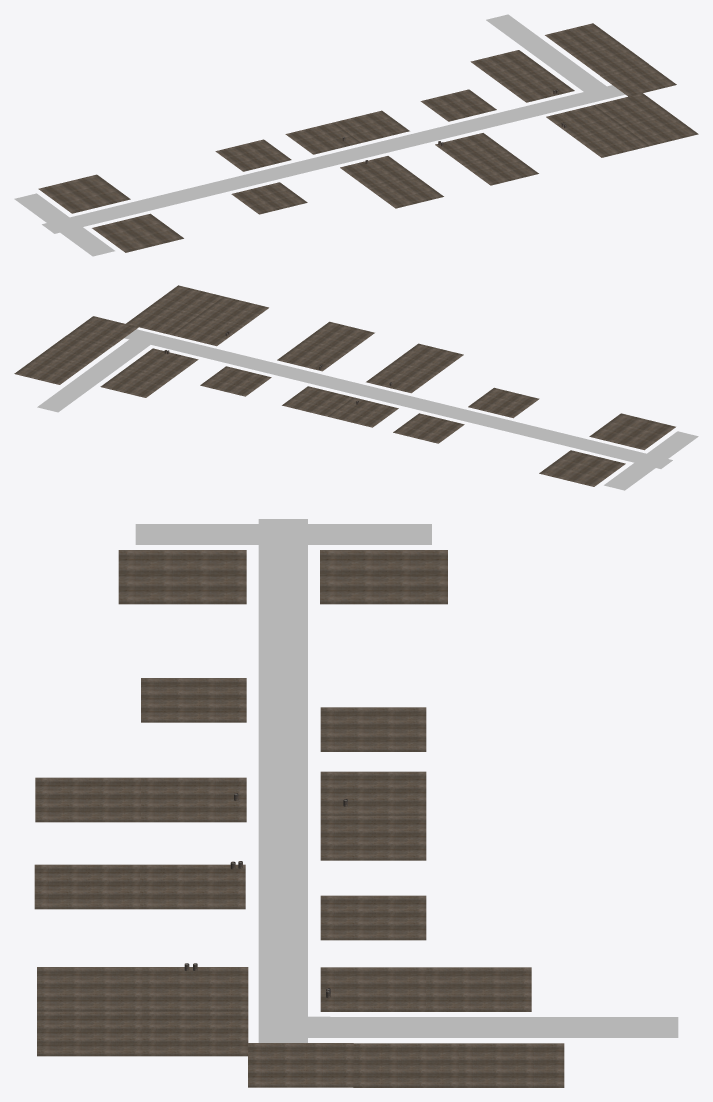
The model's file is road.fbx.
3 renders of one model, top to bottom at view 1: azimuth 30°, elevation 25°; view 2: azimuth 150°, elevation 25°; view 3: azimuth 270°, elevation 25°, orthographic. The views are drawn at different scales.
Parts seen in each view (by area): view 1: Plane.006, Plane.010, Plane.001, Plane.003, Plane.011, Plane.013, Plane.020, Plane.005, Plane.017, Plane.018, Plane.002, Plane.012 (+8 smaller); view 2: Plane.006, Plane.010, Plane.011, Plane.001, Plane.003, Plane.013, Plane.020, Plane.002, Plane.012, Plane.005, Plane.018, Plane.017 (+8 smaller); view 3: Plane.010, Plane.006, Plane.002, Plane.003, Plane.005, Plane.012, Plane.014, Plane.017, Plane.007, Plane.008, Plane.001, Plane.020 (+8 smaller).
Boxes of the visible parts, bbox=[...] form: Plane.006: bbox=[38, 174, 130, 213]; Plane.010: bbox=[92, 213, 183, 252]; Plane.001: bbox=[215, 139, 291, 171]; Plane.003: bbox=[420, 89, 496, 121]; Plane.011: bbox=[231, 182, 307, 214]; Plane.013: bbox=[470, 50, 546, 82]; Plane.020: bbox=[545, 23, 620, 55]; Plane.005: bbox=[594, 93, 670, 125]; Plane.017: bbox=[463, 153, 538, 185]; Plane.018: bbox=[600, 64, 676, 96]; Plane.002: bbox=[334, 110, 409, 142]; Plane.012: bbox=[368, 176, 443, 208]; Plane.006: bbox=[539, 450, 625, 486]; Plane.010: bbox=[589, 413, 675, 450]; Plane.011: bbox=[468, 387, 539, 418]; Plane.001: bbox=[393, 413, 464, 443]; Plane.003: bbox=[200, 366, 271, 396]; Plane.013: bbox=[100, 367, 171, 397]; Plane.020: bbox=[14, 354, 85, 384]; Plane.002: bbox=[282, 386, 352, 416]; Plane.012: bbox=[392, 343, 463, 373]; Plane.005: bbox=[126, 304, 197, 334]; Plane.018: bbox=[67, 316, 138, 346]; Plane.017: bbox=[303, 321, 374, 351]; Plane.010: bbox=[118, 550, 246, 604]; Plane.006: bbox=[320, 550, 447, 604]; Plane.002: bbox=[320, 815, 426, 860]; Plane.003: bbox=[320, 895, 426, 940]; Plane.005: bbox=[142, 1011, 248, 1056]; Plane.012: bbox=[35, 777, 140, 822]; Plane.014: bbox=[37, 1011, 142, 1056]; Plane.017: bbox=[34, 864, 139, 909]; Plane.007: bbox=[141, 777, 246, 822]; Plane.008: bbox=[140, 864, 245, 909]; Plane.001: bbox=[320, 707, 426, 751]; Plane.020: bbox=[458, 1043, 564, 1087].
Bounding box in the file's own units: 21711 × 108 × 10383.
